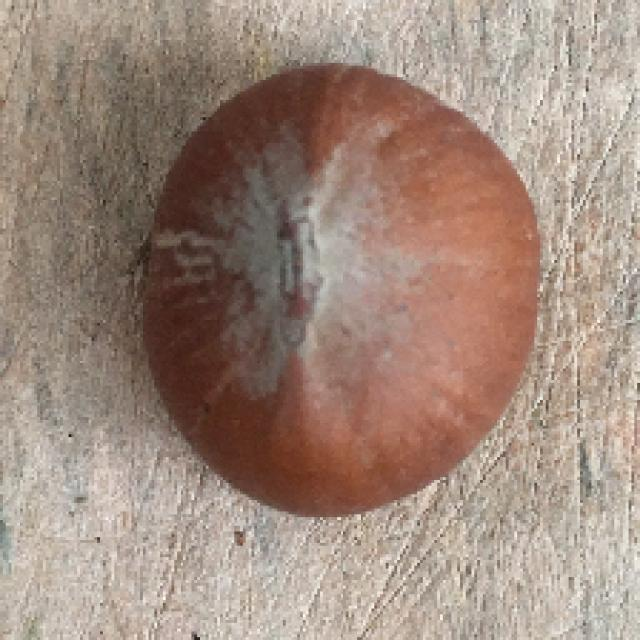damagedHazelnut: (139, 59, 542, 524)
